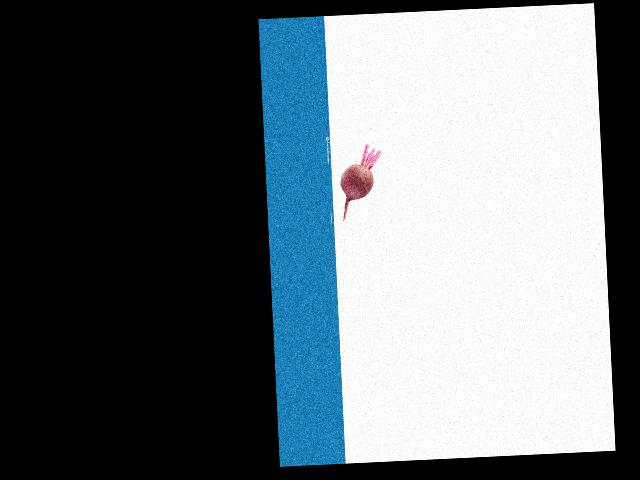beet: (339, 144, 383, 220)
